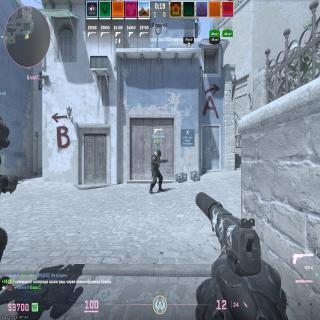CT-Body: (0, 116, 18, 289), (150, 148, 164, 194)
CT-Head: (0, 117, 10, 150), (156, 148, 162, 156)
